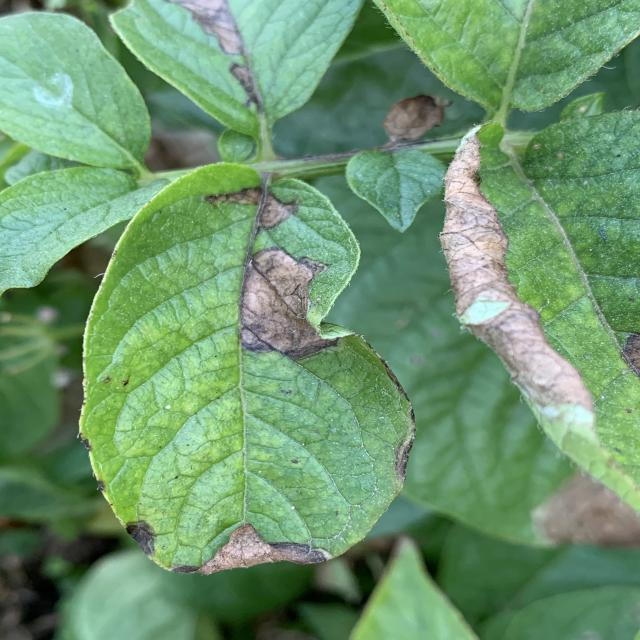lateblight: (440, 126, 592, 410), (240, 248, 337, 360), (167, 0, 263, 111), (532, 471, 640, 546), (172, 524, 327, 575), (260, 194, 298, 229), (205, 188, 262, 205)
